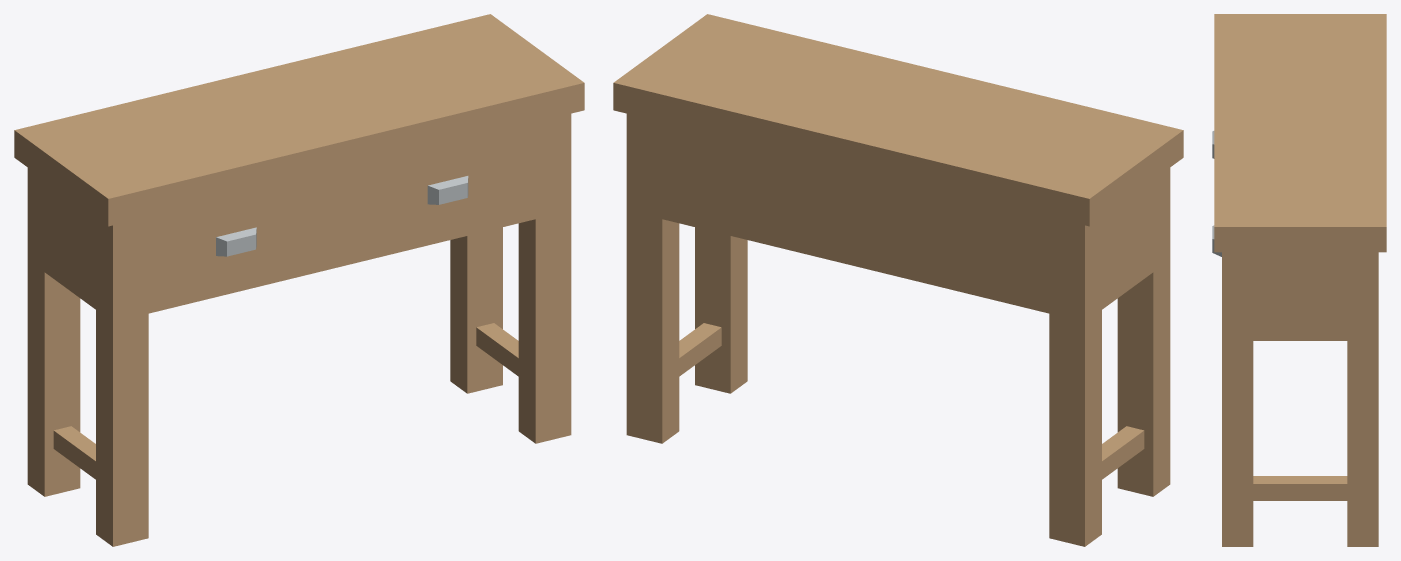
File: table-console-drawers.glb
3 views of the same model, side by side, from view 1: azimuth 30°, elevation 25°; view 2: azimuth 150°, elevation 25°; view 3: azimuth 270°, elevation 25° (orthographic). The views are drawn at different scales.
Parts seen in each view (by area): view 1: table-console-drawers; view 2: table-console-drawers; view 3: table-console-drawers.
Boxes of the visible parts, x1=… form: table-console-drawers: x1=14, y1=14, x2=584, y2=546; table-console-drawers: x1=613, y1=14, x2=1183, y2=546; table-console-drawers: x1=1212, y1=14, x2=1386, y2=546.
Size of the model in its own units: 1.1 by 0.78 by 0.38.
